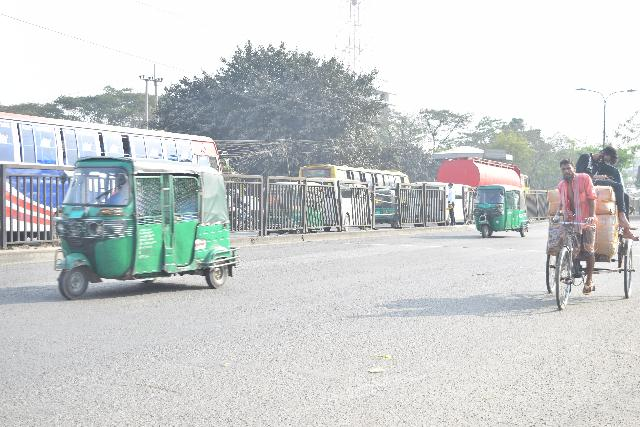bus: (0, 112, 231, 231), (298, 157, 413, 193)
truck: (433, 149, 534, 203)
